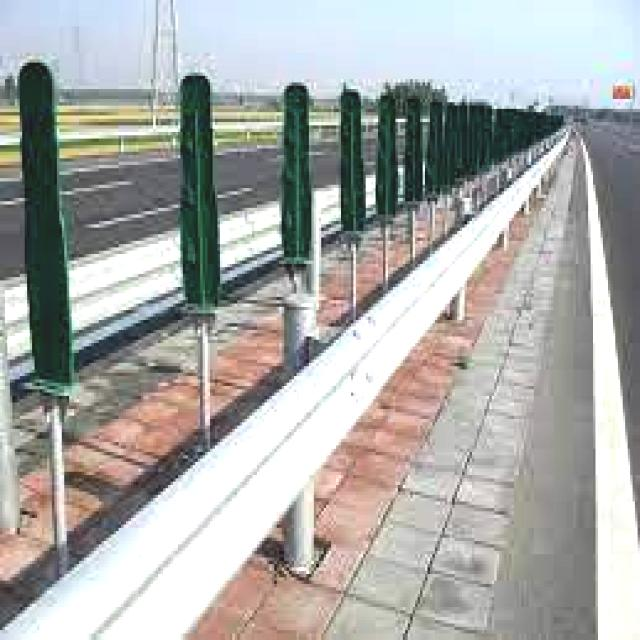Guard rail: (0, 129, 570, 638), (73, 231, 181, 331), (220, 200, 280, 268), (4, 275, 31, 365), (319, 185, 340, 229)
